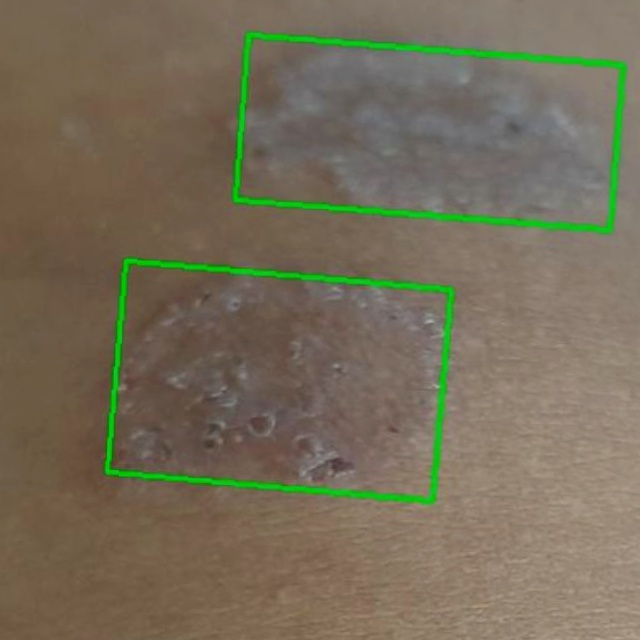Tinea Corporis: (106, 259, 450, 500), (234, 34, 622, 229)
